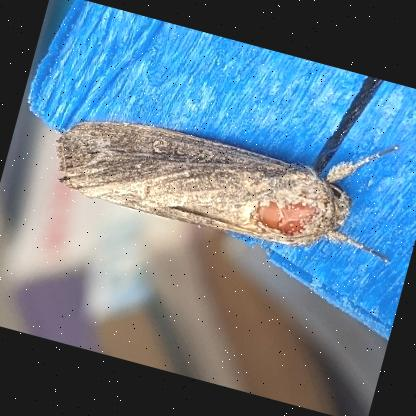Fall Armyworm Moth: (39, 58, 416, 281)
